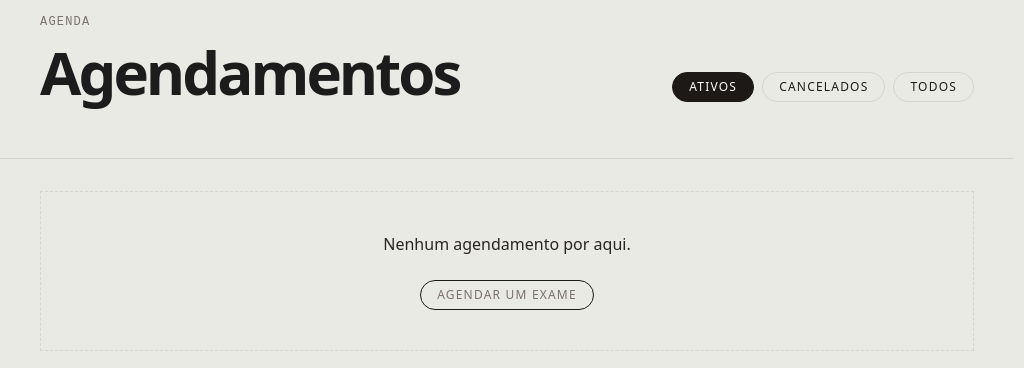
Test: ListaDeAgendamentos › filtra por situação
Expected: the text "Nenhum agendamento por aqui." is shown, [383, 233, 631, 255]
What coordinates should you click on to do the following:
click the button "Cancelados"
I would click on:
 (824, 87)
Its box is [762, 72, 886, 102].
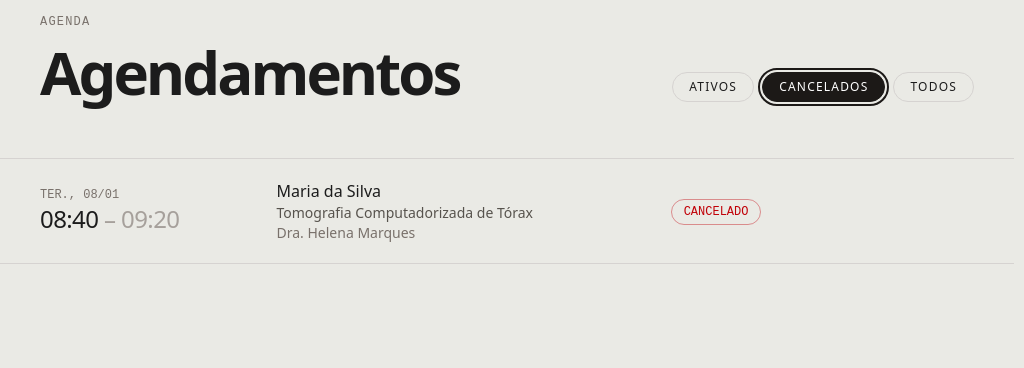
Expected: the text "Cancelado" is shown, [671, 199, 762, 225]
